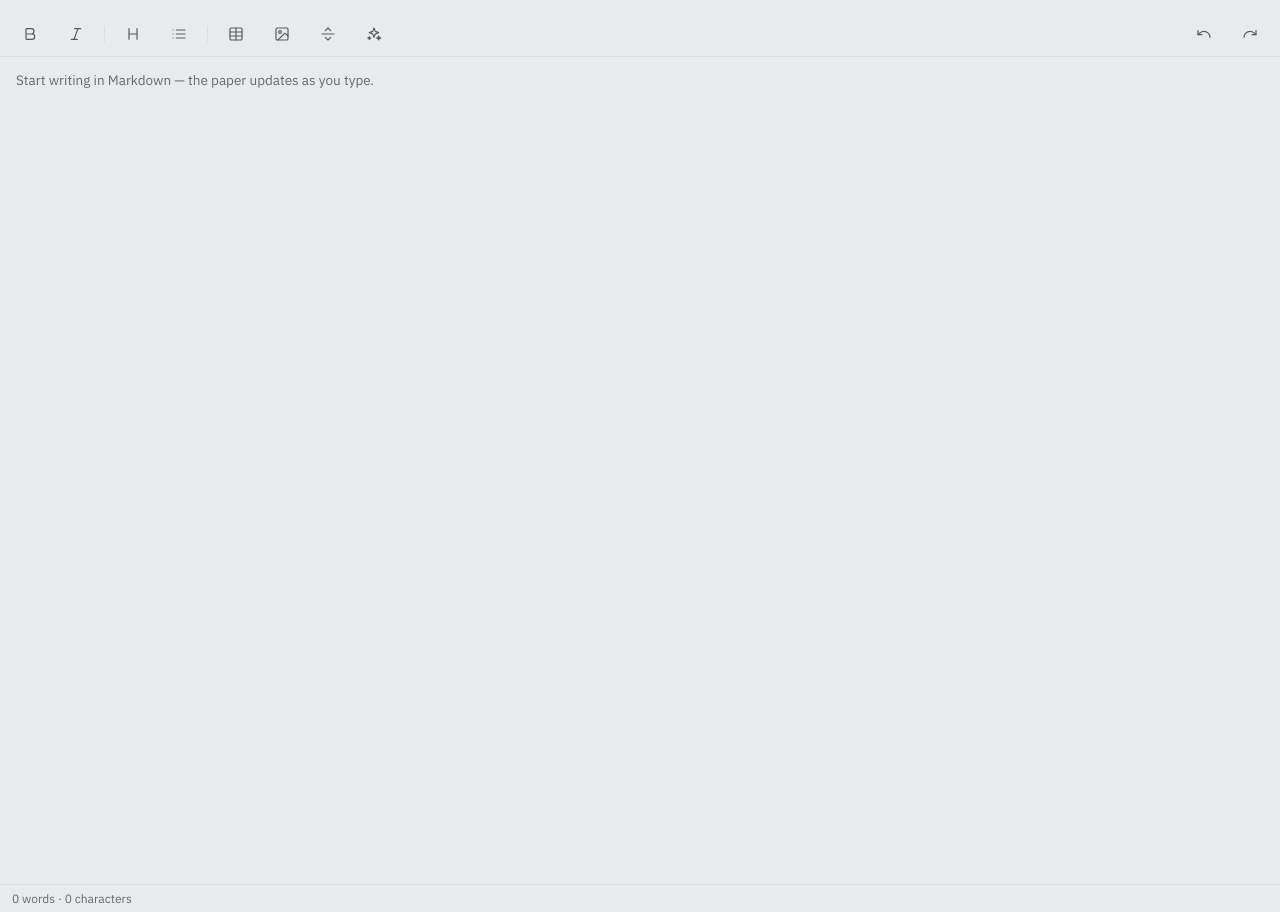
Test: the hint › never appears inside a fenced code block, and works again once it closes
This screenshot has width=1280, height=912.
Click the field labelled "Start writing in Markdown — the paper updates as you type." at (195, 80), box [16,71,374,89]
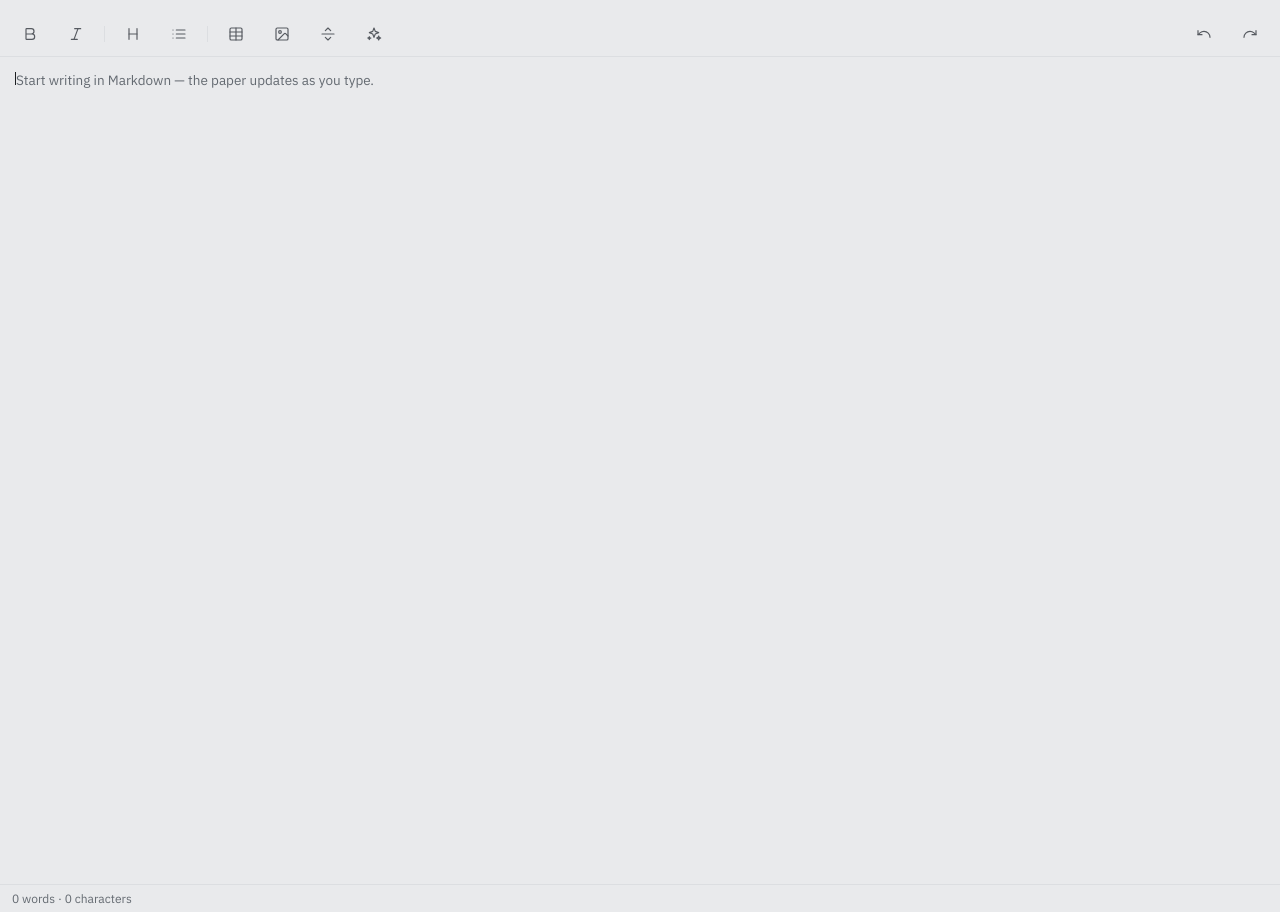
Type keys "```{Enter}/ai"
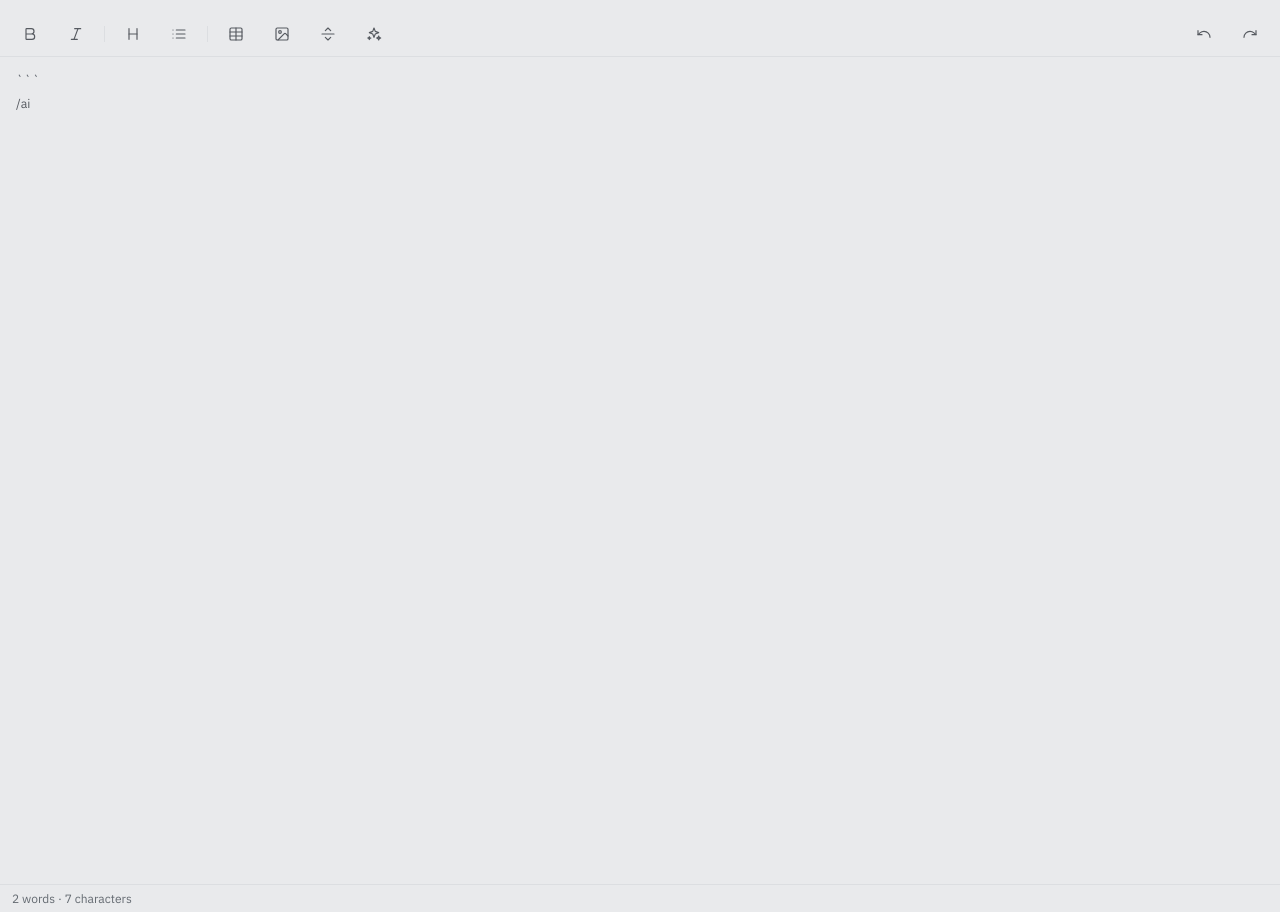
Type keys "{Enter}```{Enter}/ai"
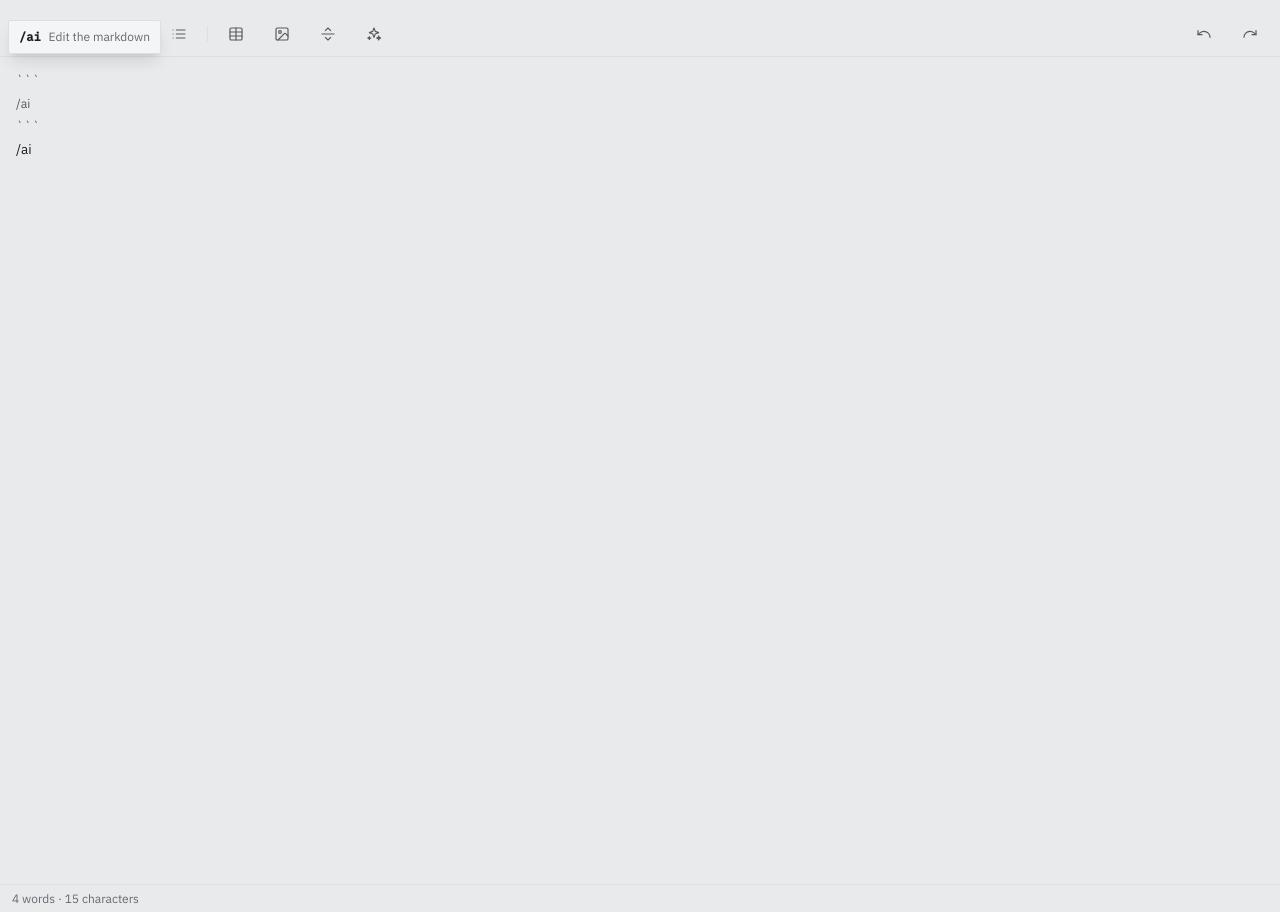
Now the element with test id "ai-hint" is shown, box [8,20,161,54]
